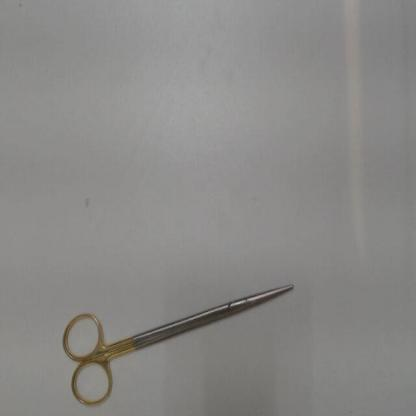7 Metzenbaum Scissors: (59, 278, 299, 414)
